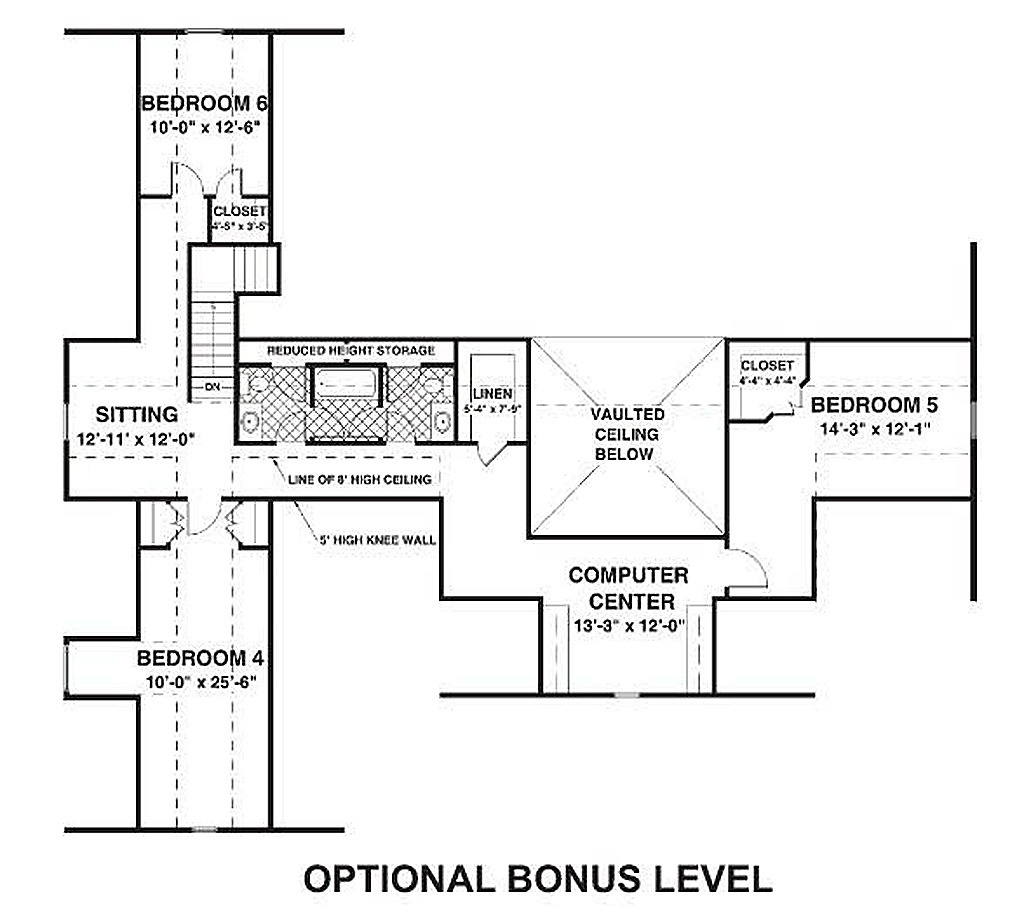door: (722, 542, 765, 592), (178, 495, 226, 537), (226, 495, 255, 550), (168, 159, 208, 197), (165, 506, 191, 553), (475, 440, 509, 475), (215, 167, 241, 197)
large_sink: (237, 361, 275, 395), (422, 370, 454, 401)
small_sink: (420, 405, 457, 447), (233, 402, 264, 449)
stairs: (169, 223, 281, 401)
tub: (312, 367, 379, 404)
window: (962, 402, 992, 449), (185, 816, 233, 844), (175, 22, 234, 44), (57, 639, 69, 705), (610, 687, 647, 708), (60, 401, 85, 432)
